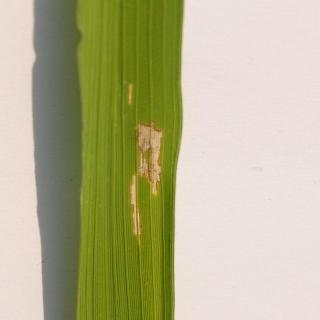Hawar-Daun: (109, 69, 177, 250)
